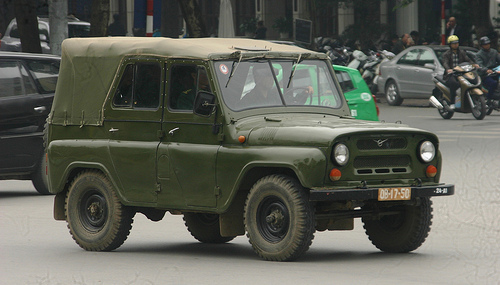plate: (376, 187, 413, 203)
